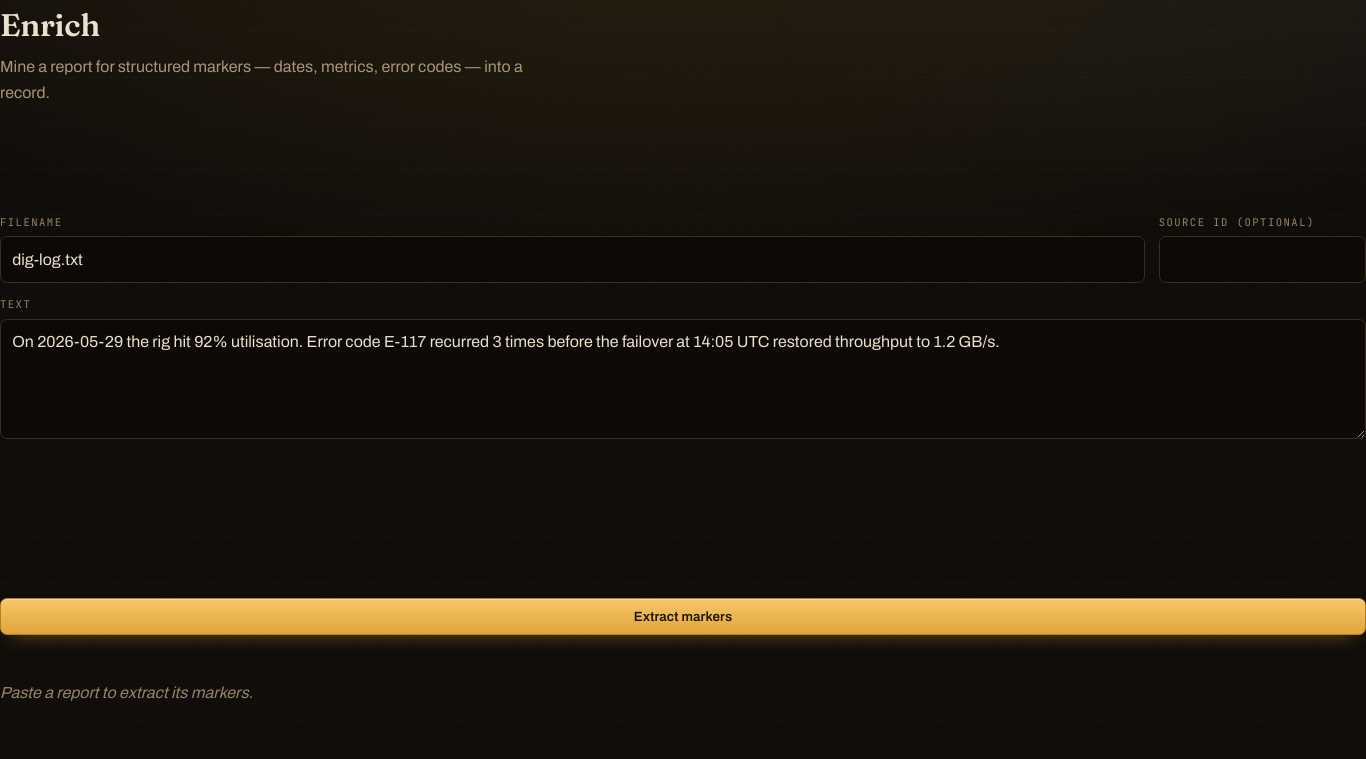
Test: EnrichPanel › extracts and groups markers with counts
The width and height of the screenshot is (1366, 759).
What coordinates should you click on to do the following:
click the button "Extract markers"
I would click on:
 (683, 616)
Its box is [0, 598, 1365, 635].
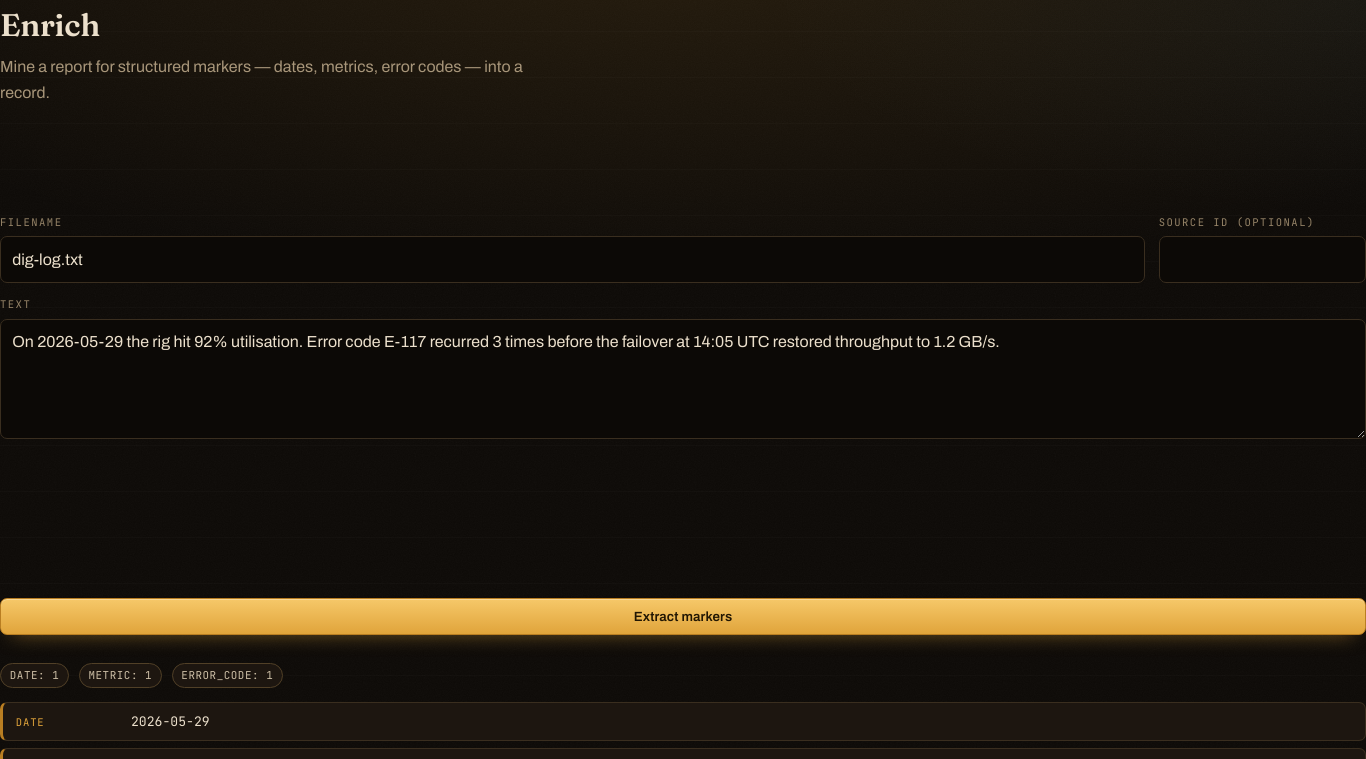
Now the text "2026-05-29" is shown, box [131, 713, 210, 730]
Now the text "date: 1" is shown, box [0, 663, 69, 688]
